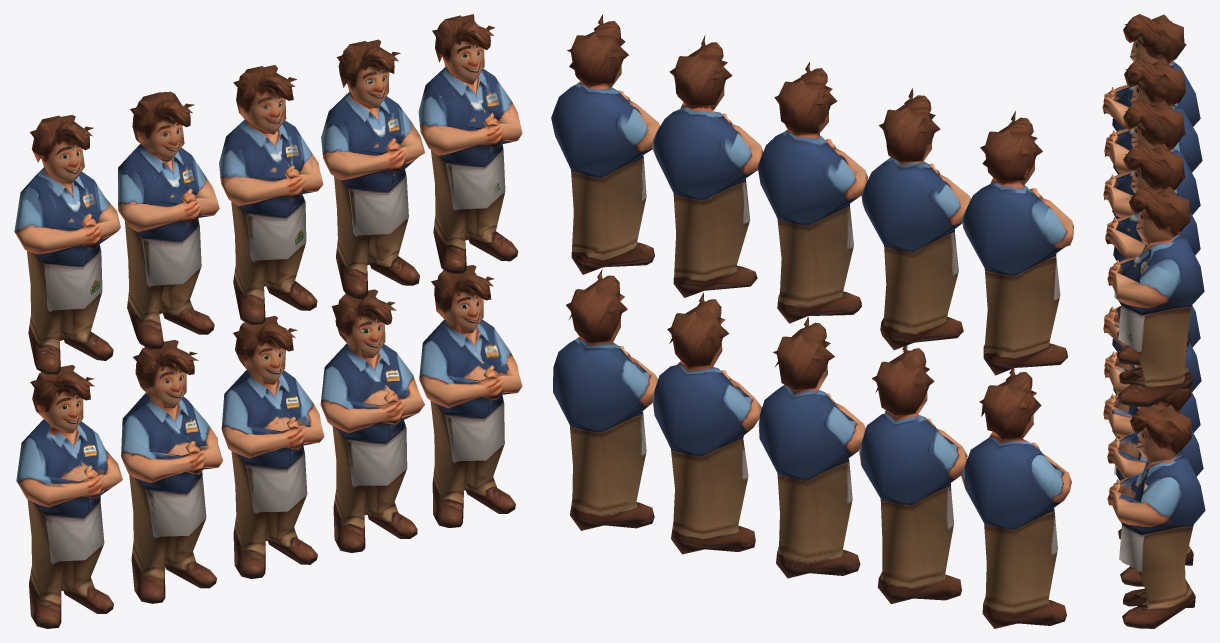
File: 019e1a30-65d3-7dde-830b-ff53455d963b.glb
3 views of the same model, side by side, from view 1: azimuth 30°, elevation 25°; view 2: azimuth 150°, elevation 25°; view 3: azimuth 270°, elevation 25° (orthographic). The views are drawn at different scales.
Parts seen in each view (by area): view 1: tripo_node_947c0e17-e164-425f-bbeb-6ec138eb4a2d; view 2: tripo_node_947c0e17-e164-425f-bbeb-6ec138eb4a2d; view 3: tripo_node_947c0e17-e164-425f-bbeb-6ec138eb4a2d.
Part boxes in pixels (<box>): tripo_node_947c0e17-e164-425f-bbeb-6ec138eb4a2d: <box>14,14,522,628</box>; tripo_node_947c0e17-e164-425f-bbeb-6ec138eb4a2d: <box>551,14,1073,628</box>; tripo_node_947c0e17-e164-425f-bbeb-6ec138eb4a2d: <box>1102,14,1205,628</box>.
Size of the model in its own units: 0.998 by 0.9355 by 0.2051.
1 material, 1 textured.
